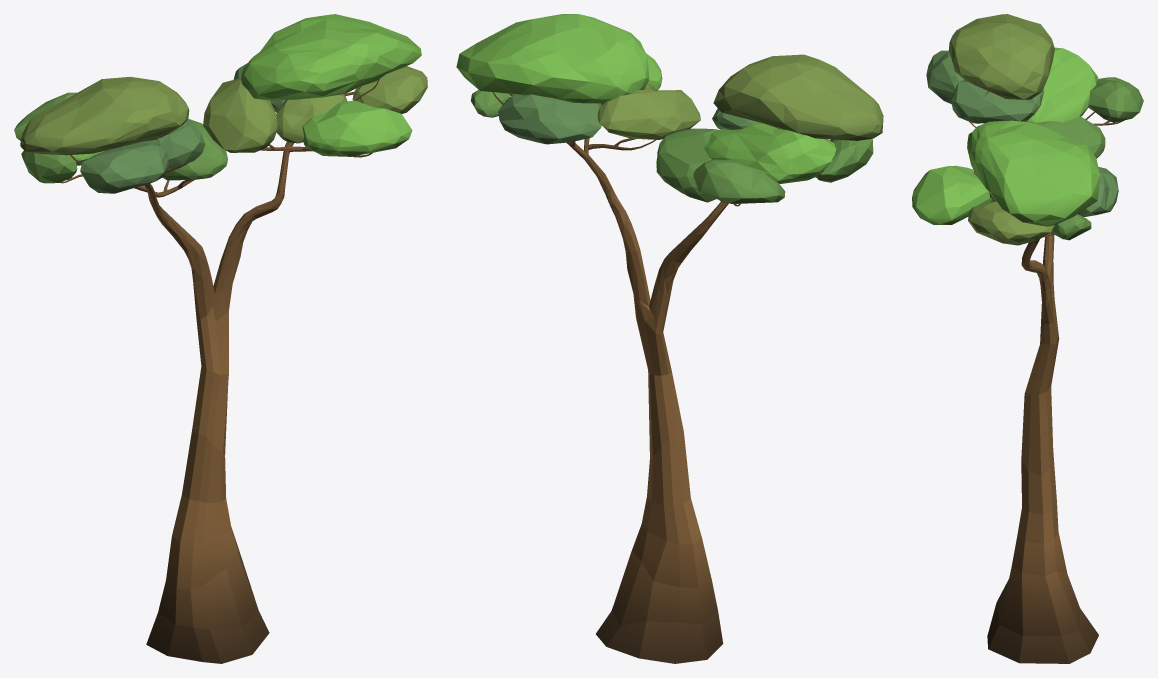
Rendered from JungleTree_Tall_B.fbx.
The picture shows the model from 3 angles, left to right: view 1: azimuth 30°, elevation 25°; view 2: azimuth 150°, elevation 25°; view 3: azimuth 270°, elevation 25°; orthographic projection. The views are drawn at different scales.
Visible parts, largest first — view 1: JungleTree_Tall_B; view 2: JungleTree_Tall_B; view 3: JungleTree_Tall_B.
Boxes of the visible parts, <box> form: JungleTree_Tall_B: <box>14,14,427,663</box>; JungleTree_Tall_B: <box>456,14,883,663</box>; JungleTree_Tall_B: <box>912,14,1143,663</box>.
Size of the model in its own units: 21.15 by 29.5 by 10.96.
